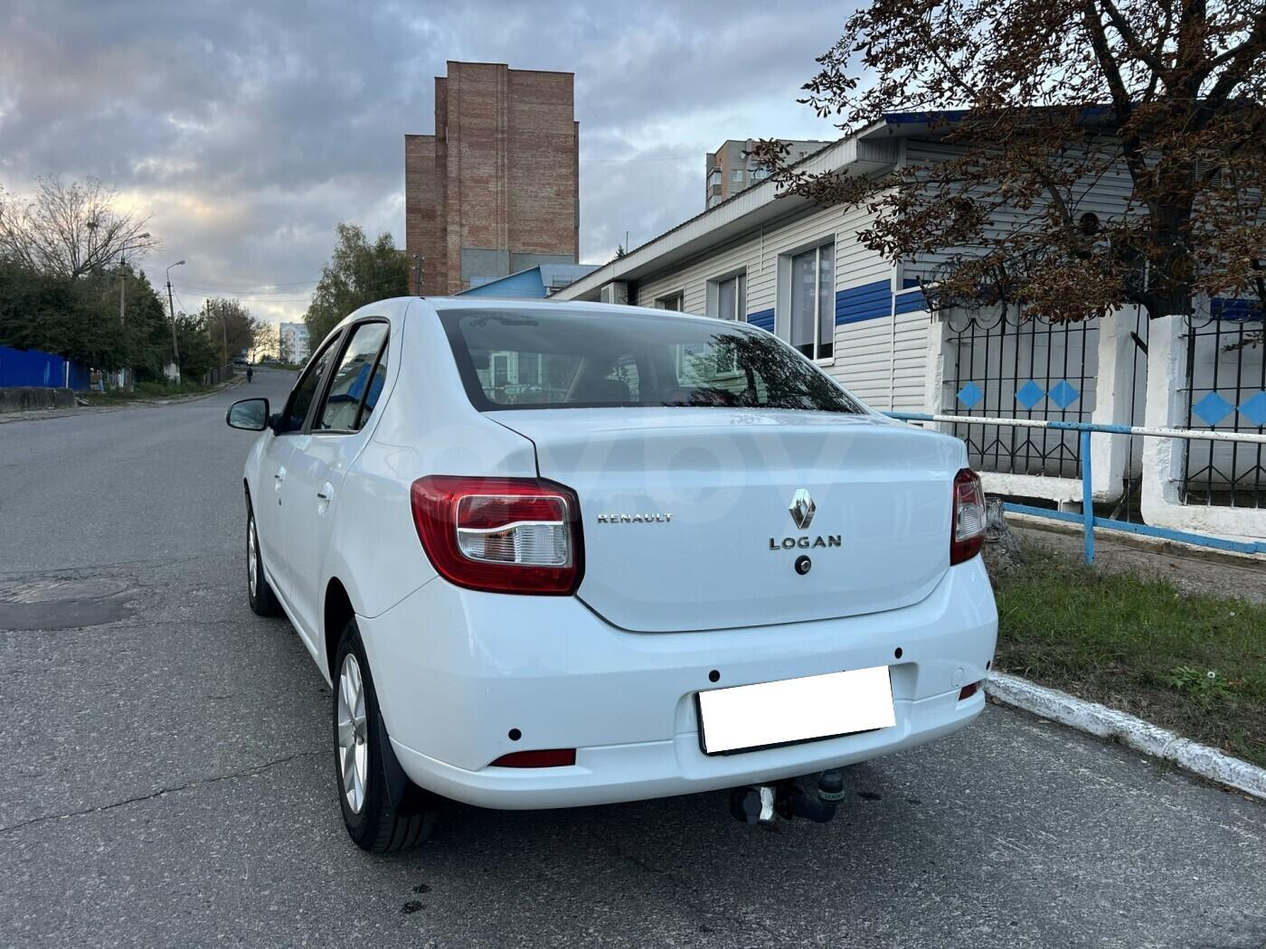Logan_2013-2018: (234, 291, 1022, 850)
